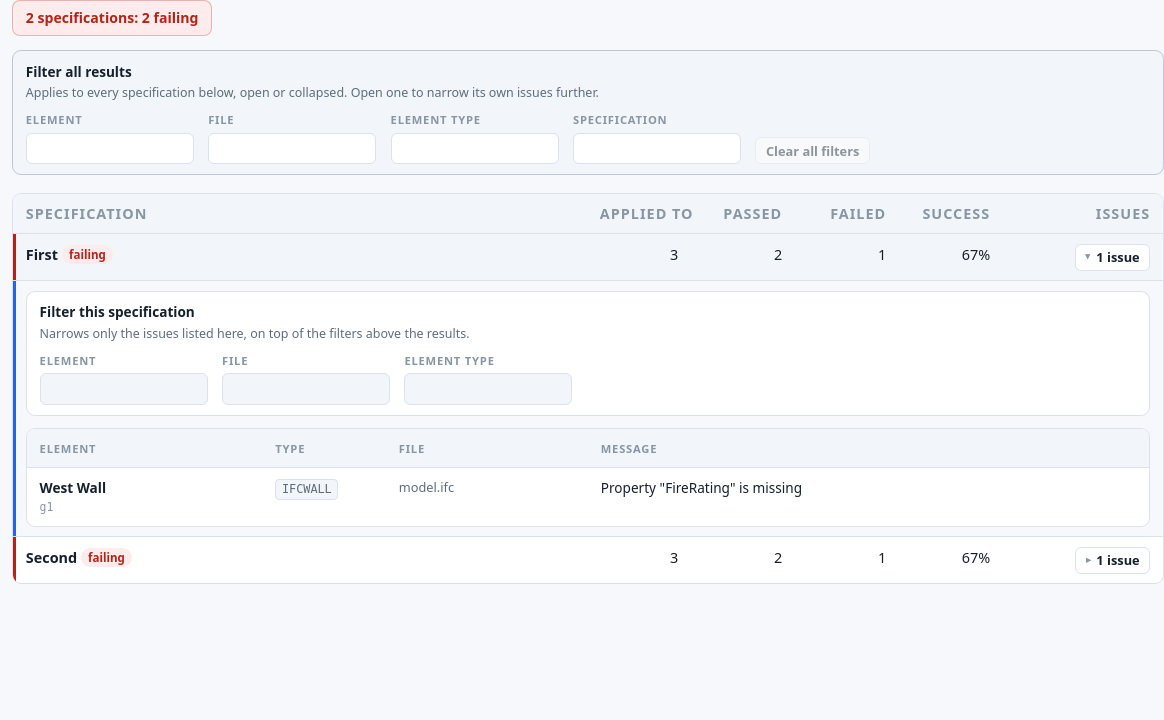
Test: CheckSummary › narrows every specification at once from the filters above them
Type "IFCDUCT" into the field named "Filter all results by element type" at (475, 148), box [391, 133, 559, 164]
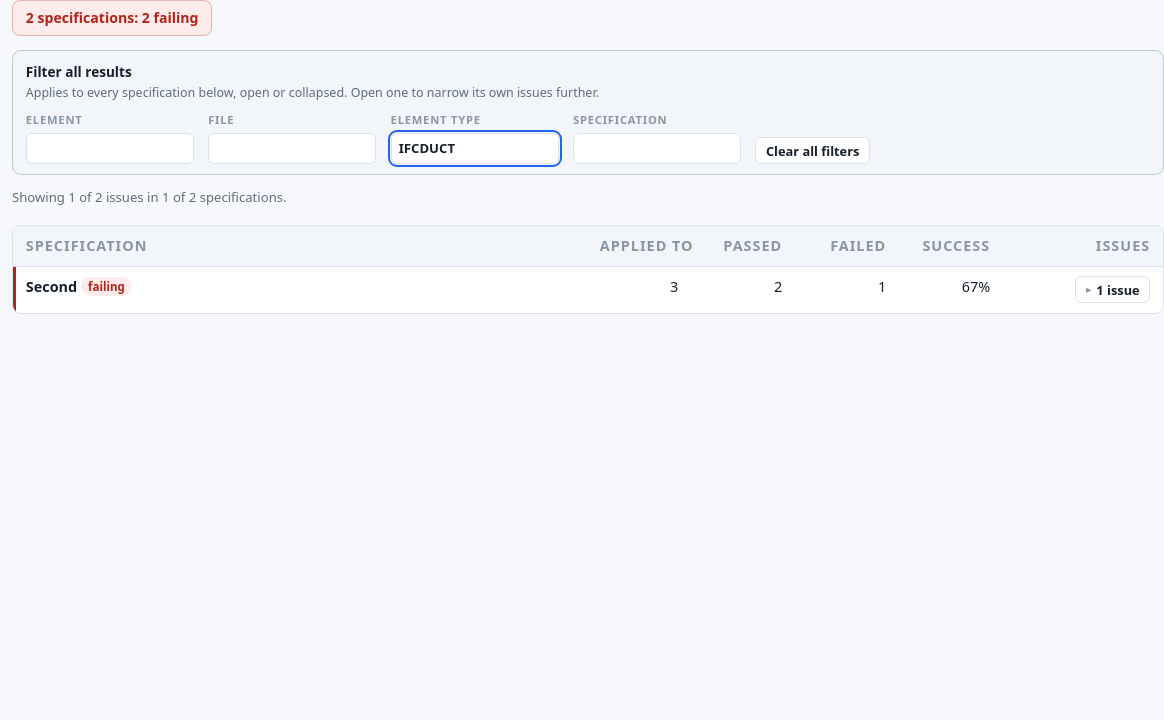
Expected: the text "Second" is shown, [26, 277, 77, 296]
Now the text "First" is gone
